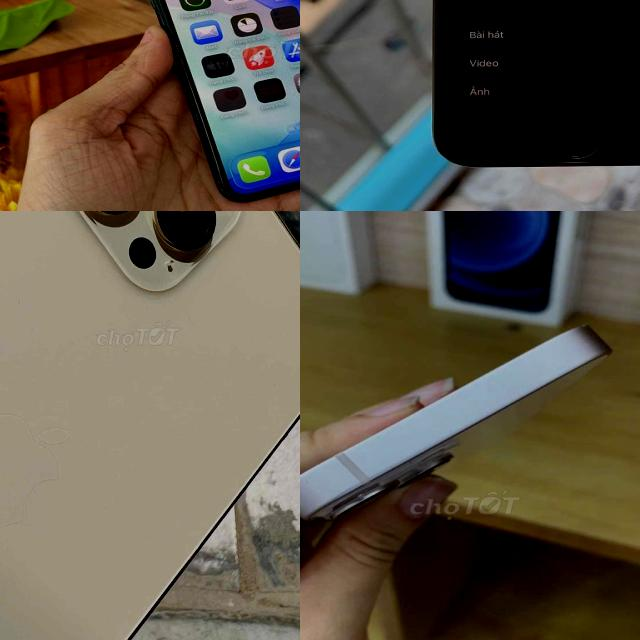gen_11: (121, 0, 300, 193)
gen_12_13: (0, 211, 300, 640), (300, 318, 615, 528)
gen_7_8: (419, 0, 640, 176)
